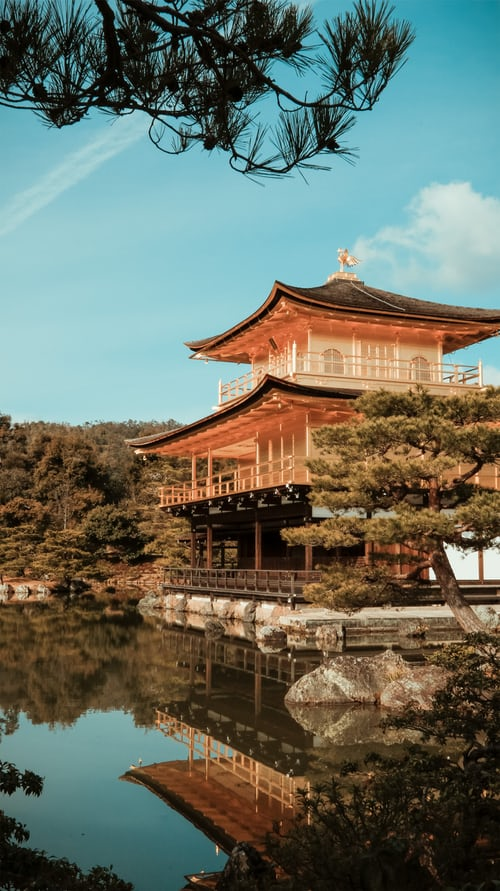Temple: (137, 248, 489, 679)
